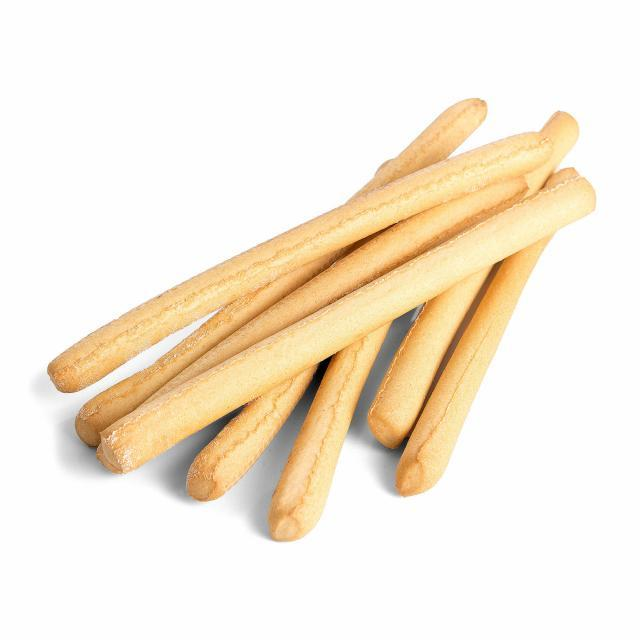Grissini: (40, 99, 598, 537)
